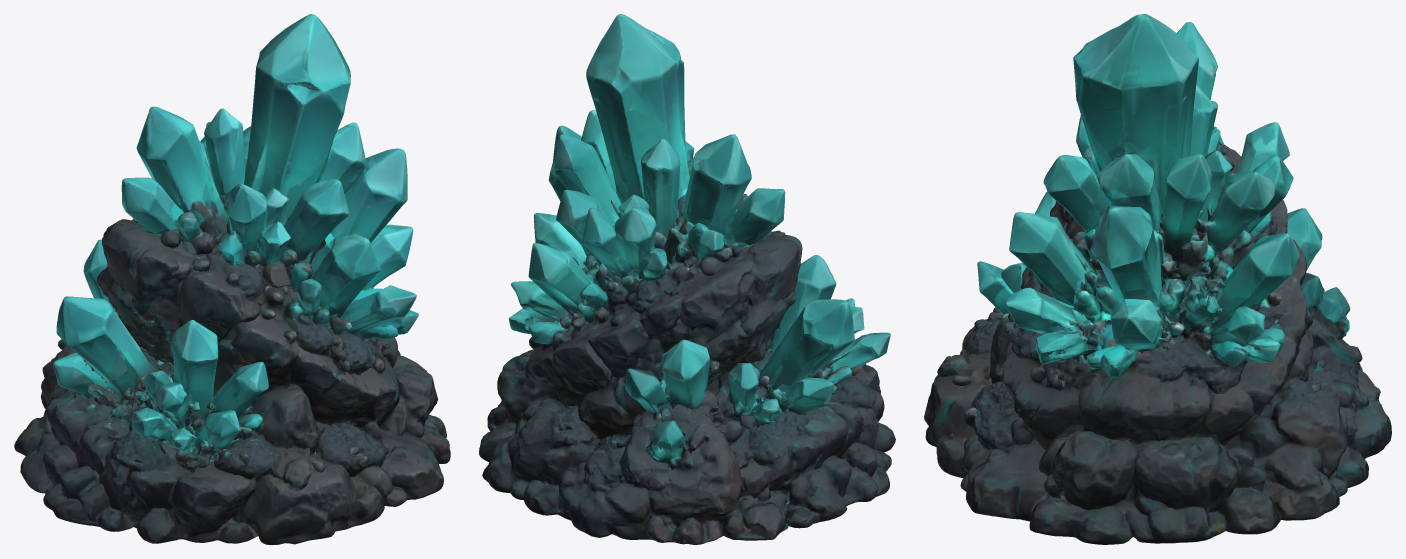
The model's file is crystal.glb.
3 views of the same model, side by side, from view 1: azimuth 30°, elevation 25°; view 2: azimuth 150°, elevation 25°; view 3: azimuth 270°, elevation 25° (orthographic). The views are drawn at different scales.
Parts seen in each view (by area): view 1: geometry_0; view 2: geometry_0; view 3: geometry_0.
Part boxes in pixels (x1,y1,x2,y2): geometry_0: (14,14,450,544); geometry_0: (479,14,895,544); geometry_0: (924,14,1391,544).
Size of the model in its own units: 0.2013 by 0.22 by 0.1976.
Materials: 1 (1 with a texture image).
